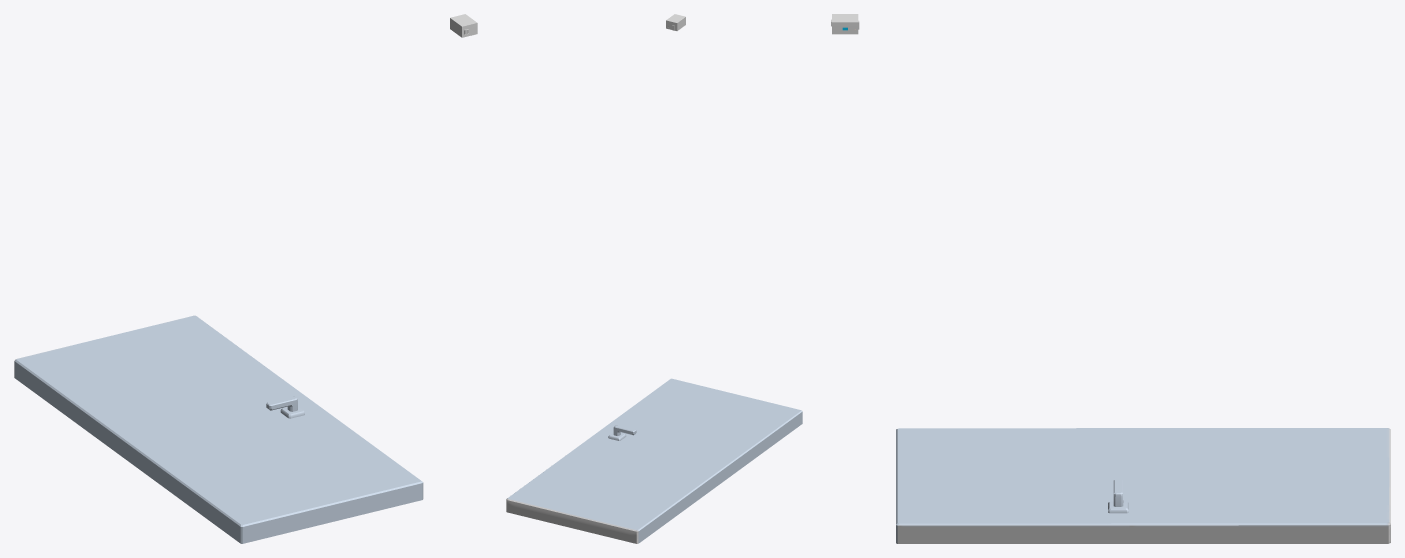
The model's file is Props.fbx.
The picture shows the model from 3 angles, left to right: view 1: azimuth 30°, elevation 25°; view 2: azimuth 150°, elevation 25°; view 3: azimuth 270°, elevation 25°; orthographic projection. The views are drawn at different scales.
Visible parts, largest first — view 1: door_low.001; view 2: door_low.001; view 3: door_low.001.
Boxes of the visible parts, bbox=[...] form: door_low.001: bbox=[14, 315, 423, 543]; door_low.001: bbox=[506, 378, 802, 543]; door_low.001: bbox=[896, 428, 1390, 543].
Size of the model in its own units: 10885 by 24789 by 23532.
